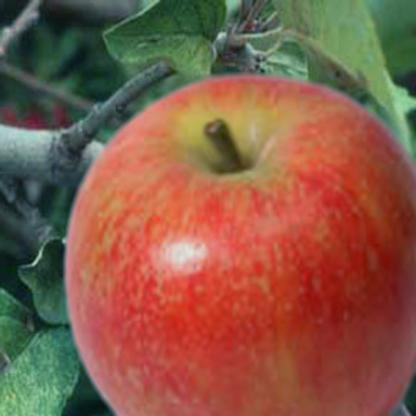--: (61, 69, 416, 416)
